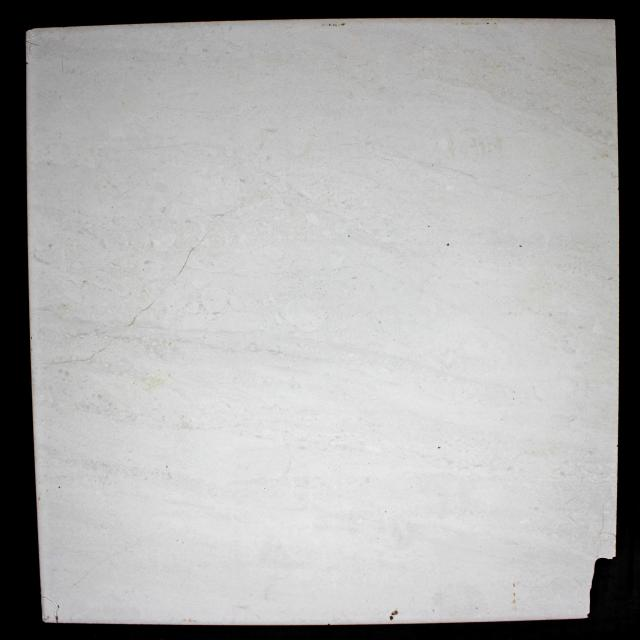edge-chipping: (587, 556, 616, 618)
hole: (391, 610, 398, 616), (388, 616, 394, 621), (446, 243, 450, 246)
line: (52, 345, 109, 365), (124, 299, 158, 327), (176, 246, 196, 278)
